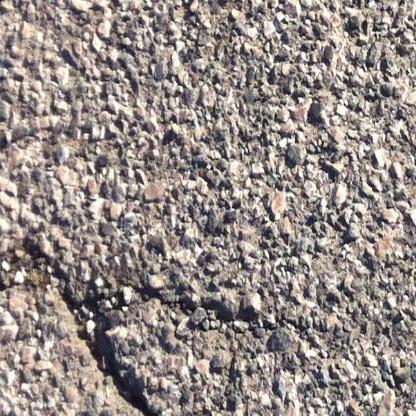Cracks: (0, 238, 210, 416), (158, 296, 263, 329)
